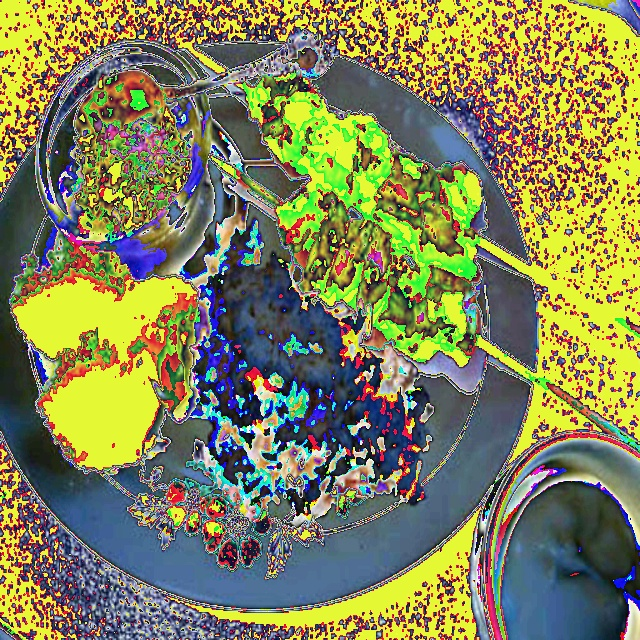background: (146, 172, 639, 639), (9, 71, 483, 527), (70, 102, 191, 236)
